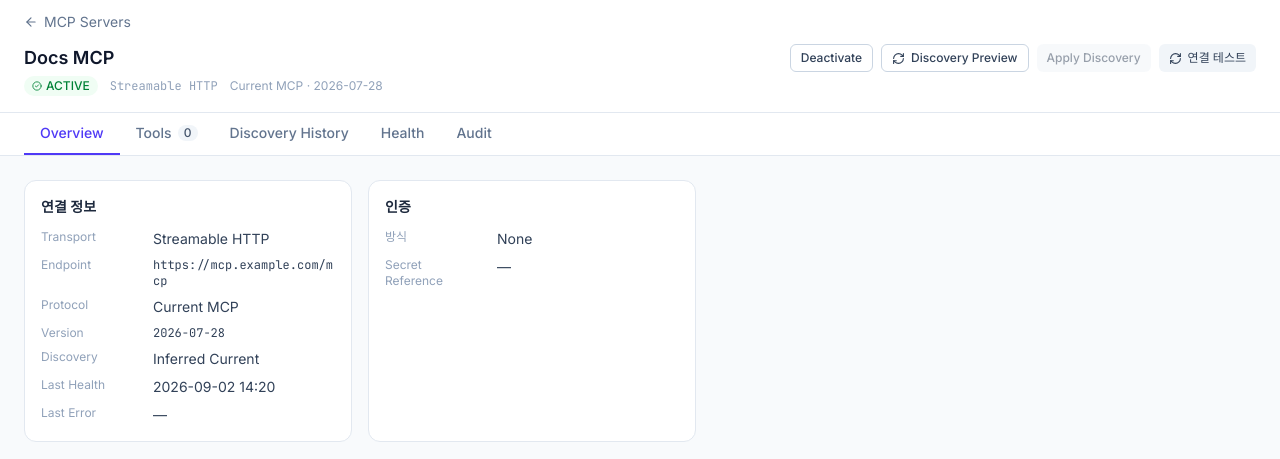
Scenario: MCPServerDetail — API detail › keeps Overview when Tools secondary API fails
expect the heading "Docs MCP" is shown: met, box [24,47,114,68]
expect the text "ACTIVE" is shown: met, box [24,76,98,96]
Click the button "Tools 0". click: coordinates (166, 134)
box: [120,113,214,155]
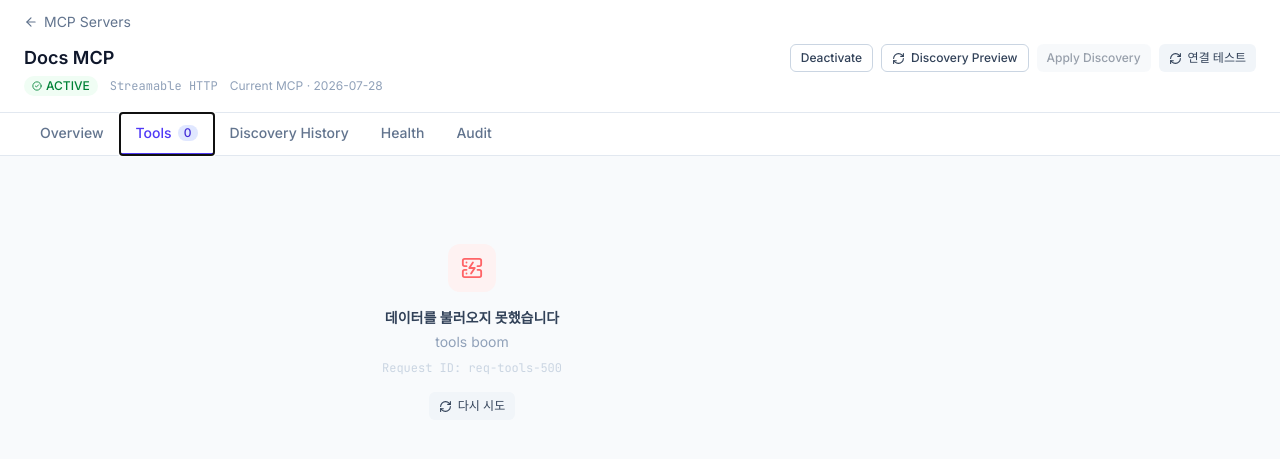
expect the heading "Docs MCP" is shown: met, box [24,47,114,68]
expect the text "tools boom" is shown: met, box [435,332,509,352]
